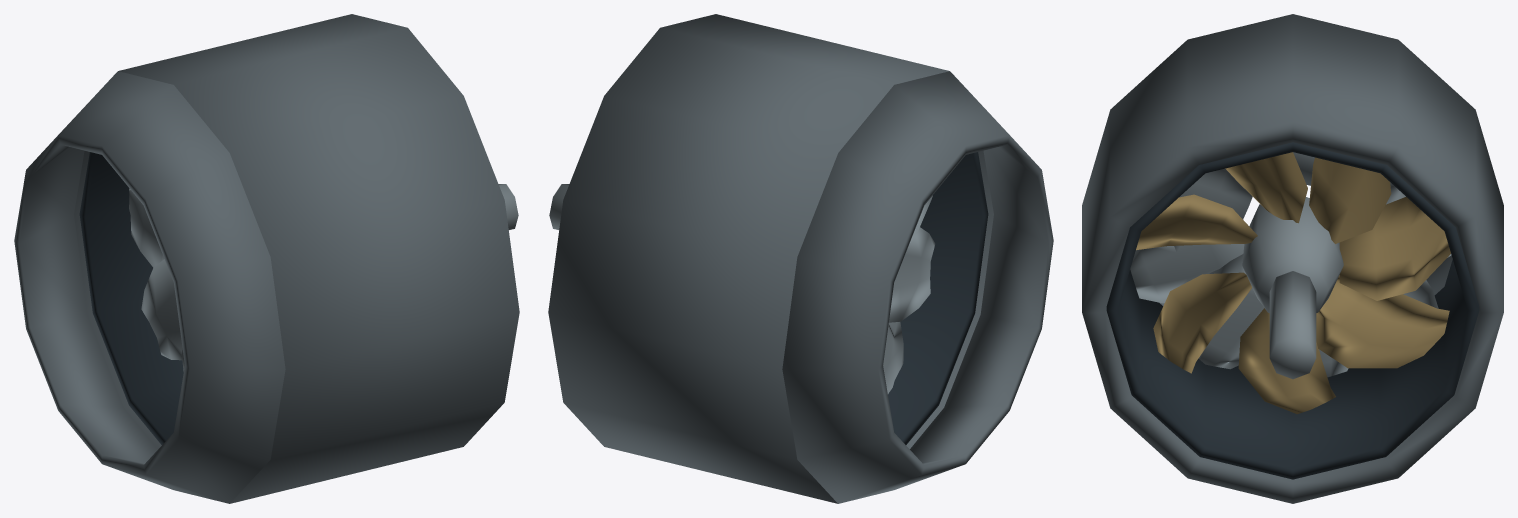
Rendered from CN_PJ_Type093B_LOD3.fbx.
3 views of the same model, side by side, from view 1: azimuth 30°, elevation 25°; view 2: azimuth 150°, elevation 25°; view 3: azimuth 270°, elevation 25° (orthographic). The views are drawn at different scales.
Parts seen in each view (by area): view 1: CN_PJ_Type093B_LOD3_Housing.001, CN_PJ_Type093B_LOD3_Nozzle.001, CN_PJ_Type093B_LOD3_Lining.001, CN_PJ_Type093B_LOD3_Stator_08.001, CN_PJ_Type093B_LOD3_Stator_00.001; view 2: CN_PJ_Type093B_LOD3_Housing.001, CN_PJ_Type093B_LOD3_Nozzle.001, CN_PJ_Type093B_LOD3_Lining.001, CN_PJ_Type093B_LOD3_Stator_05.001, CN_PJ_Type093B_LOD3_Stator_06.001; view 3: CN_PJ_Type093B_LOD3_Housing.001, CN_PJ_Type093B_LOD3_Lining.001, CN_PJ_Type093B_LOD3_Rotor_06.001, CN_PJ_Type093B_LOD3_Rotor_00.001, CN_PJ_Type093B_LOD3_Hub.001, CN_PJ_Type093B_LOD3_Rotor_04.001, CN_PJ_Type093B_LOD3_Rotor_01.001, CN_PJ_Type093B_LOD3_Shaft.001, CN_PJ_Type093B_LOD3_Rotor_05.001, CN_PJ_Type093B_LOD3_Rotor_03.001, CN_PJ_Type093B_LOD3_Stator_05.001, CN_PJ_Type093B_LOD3_Rotor_02.001 (+3 smaller).
Boxes of the visible parts, x1,y1,x2,y2 form: CN_PJ_Type093B_LOD3_Housing.001: (74, 14, 519, 503); CN_PJ_Type093B_LOD3_Nozzle.001: (14, 71, 285, 503); CN_PJ_Type093B_LOD3_Lining.001: (79, 152, 183, 444); CN_PJ_Type093B_LOD3_Stator_08.001: (141, 259, 182, 360); CN_PJ_Type093B_LOD3_Stator_00.001: (129, 188, 164, 267); CN_PJ_Type093B_LOD3_Housing.001: (548, 14, 993, 503); CN_PJ_Type093B_LOD3_Nozzle.001: (782, 71, 1053, 503); CN_PJ_Type093B_LOD3_Lining.001: (888, 152, 988, 444); CN_PJ_Type093B_LOD3_Stator_05.001: (889, 227, 935, 322); CN_PJ_Type093B_LOD3_Stator_06.001: (883, 322, 903, 393); CN_PJ_Type093B_LOD3_Housing.001: (1082, 14, 1503, 503); CN_PJ_Type093B_LOD3_Lining.001: (1106, 142, 1479, 479); CN_PJ_Type093B_LOD3_Rotor_06.001: (1316, 275, 1449, 368); CN_PJ_Type093B_LOD3_Rotor_00.001: (1339, 197, 1450, 300); CN_PJ_Type093B_LOD3_Hub.001: (1242, 197, 1343, 312); CN_PJ_Type093B_LOD3_Rotor_04.001: (1153, 272, 1252, 373); CN_PJ_Type093B_LOD3_Rotor_01.001: (1309, 157, 1391, 243); CN_PJ_Type093B_LOD3_Shaft.001: (1269, 271, 1316, 379); CN_PJ_Type093B_LOD3_Rotor_05.001: (1238, 308, 1335, 414); CN_PJ_Type093B_LOD3_Rotor_03.001: (1136, 194, 1257, 250); CN_PJ_Type093B_LOD3_Stator_05.001: (1130, 244, 1244, 303); CN_PJ_Type093B_LOD3_Rotor_02.001: (1225, 152, 1307, 223).
Bounding box in the file's own units: 564 × 540 × 540.
